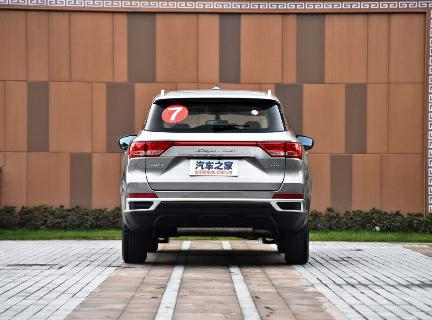众泰-T500: (115, 82, 319, 271)
